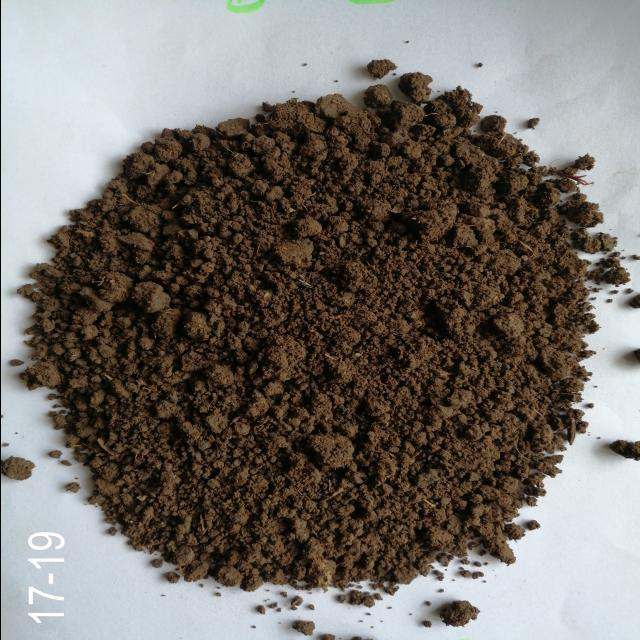soil: (126, 167, 526, 502)
